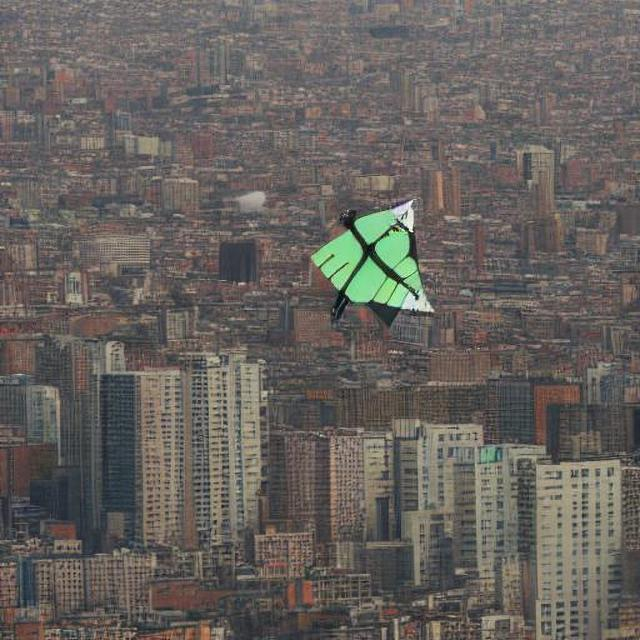floating object: (312, 202, 428, 322)
